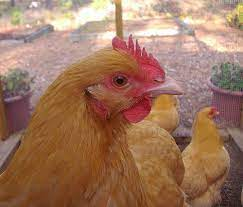buff: (69, 36, 183, 131), (194, 107, 226, 180)
